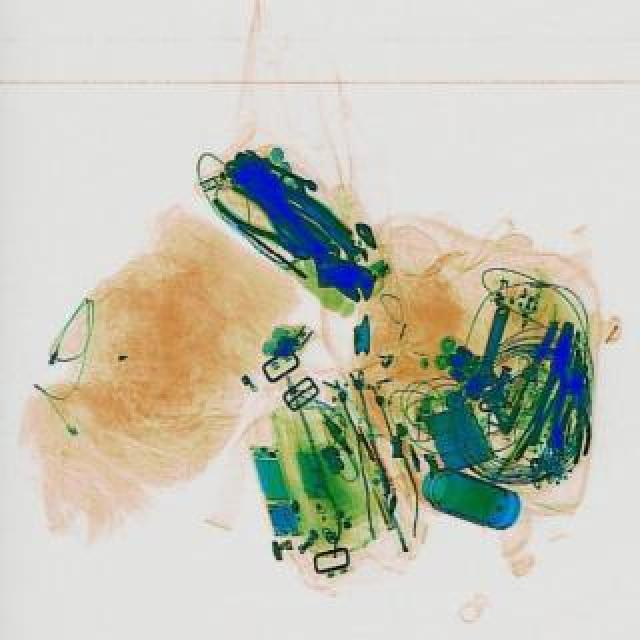scissors: (210, 146, 386, 316), (288, 184, 370, 268), (458, 300, 520, 406)
wrench: (208, 176, 316, 270), (524, 320, 584, 450), (554, 362, 598, 456)
